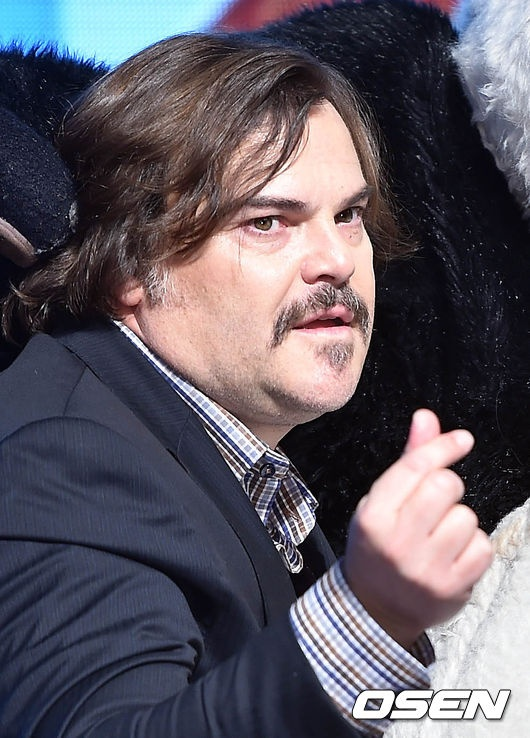oneheart: (332, 405, 517, 613)
